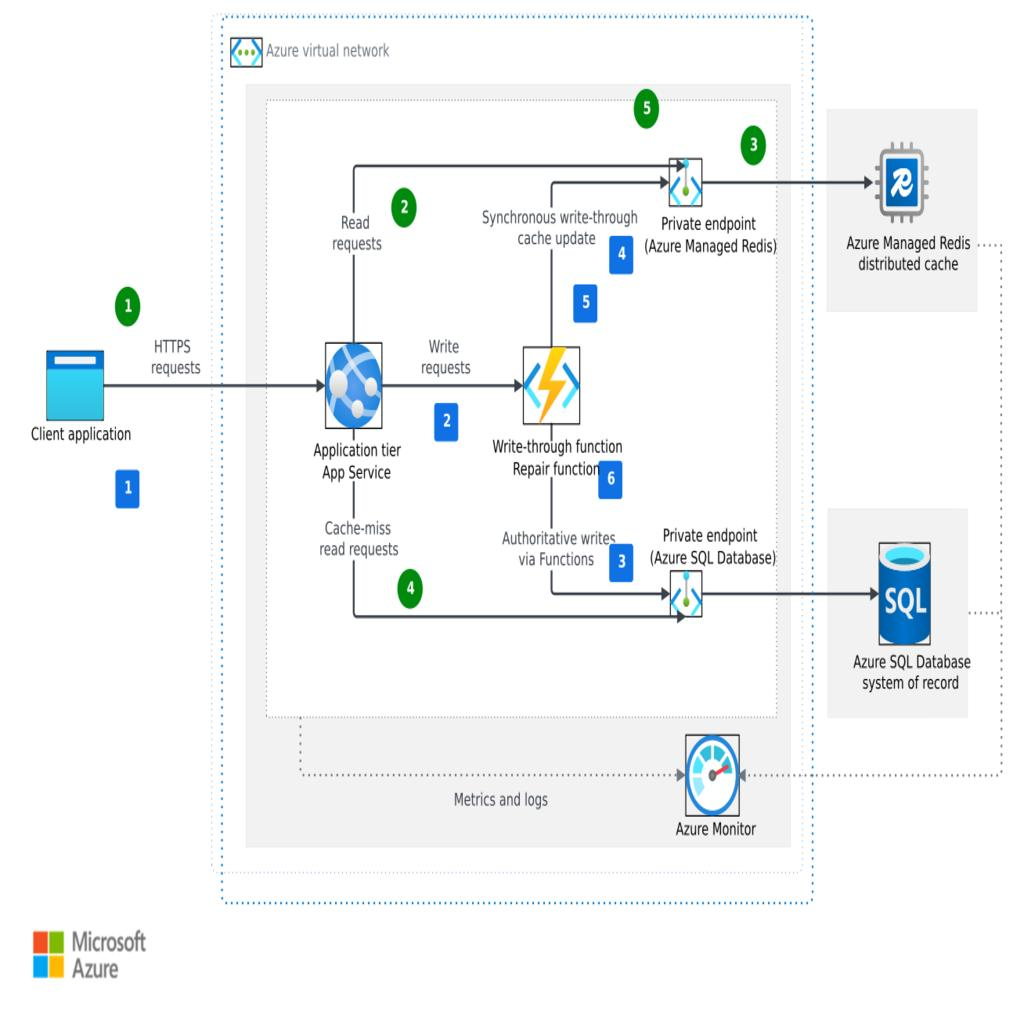actor: (44, 348, 106, 422)
compute: (520, 342, 580, 428), (324, 342, 383, 428), (682, 733, 741, 819)
data_flow: (356, 610, 664, 615), (305, 774, 674, 778), (106, 382, 320, 388), (356, 162, 664, 166), (706, 590, 874, 596), (748, 774, 994, 778), (548, 148, 552, 384), (352, 164, 357, 338), (352, 425, 357, 599), (706, 181, 874, 186), (385, 382, 518, 388), (548, 425, 552, 599), (550, 590, 664, 596), (550, 181, 664, 186)
database_storage: (876, 144, 936, 230), (876, 540, 936, 626)
network_security: (664, 158, 704, 209), (664, 568, 704, 618)
trust_boundary: (212, 16, 812, 902), (244, 82, 790, 848)
